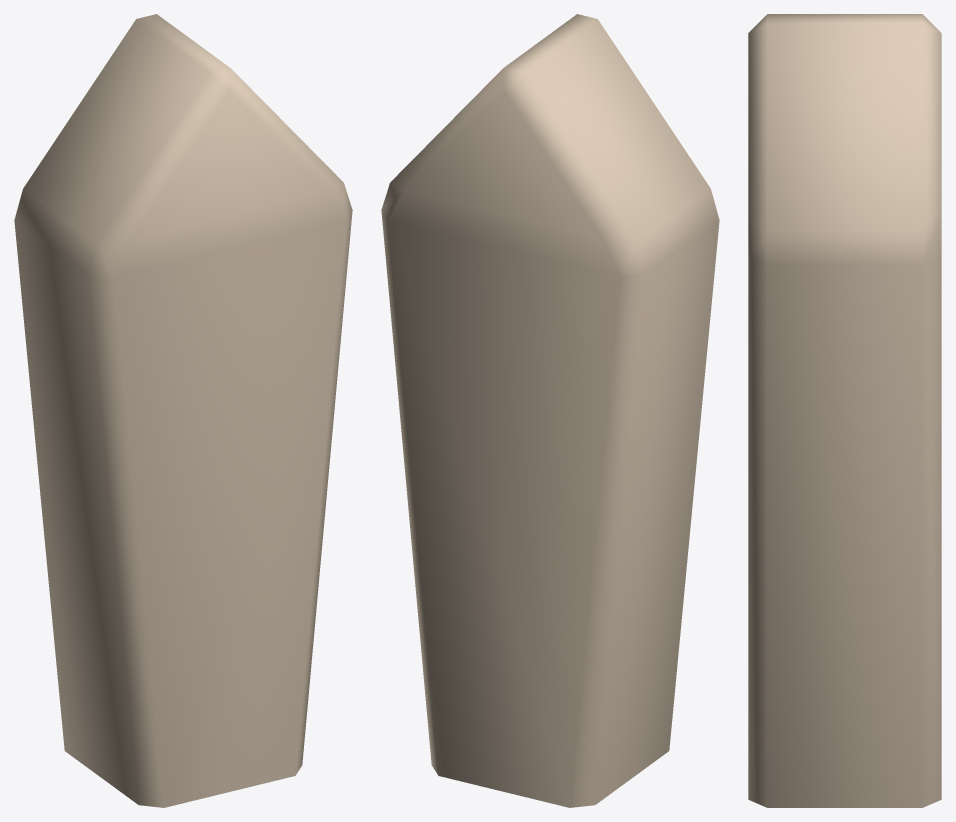
Rendered from fence_post.glb.
3 renders of one model, left to right at view 1: azimuth 30°, elevation 25°; view 2: azimuth 150°, elevation 25°; view 3: azimuth 270°, elevation 25°, orthographic. The views are drawn at different scales.
Visible parts, largest first — view 1: fence_post; view 2: fence_post; view 3: fence_post.
Boxes of the visible parts, x1=… form: fence_post: x1=14, y1=14, x2=352, y2=807; fence_post: x1=381, y1=14, x2=719, y2=807; fence_post: x1=748, y1=14, x2=941, y2=807.
Size of the model in its own units: 0.494 by 1.28 by 0.3.
